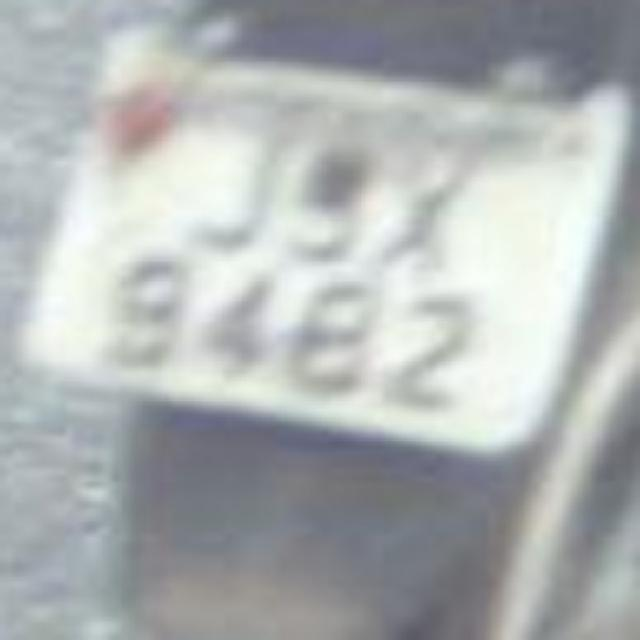2: (364, 268, 504, 424)
4: (180, 248, 285, 384)
8: (268, 255, 400, 400)
9: (85, 240, 200, 368)
J: (184, 112, 296, 256)
